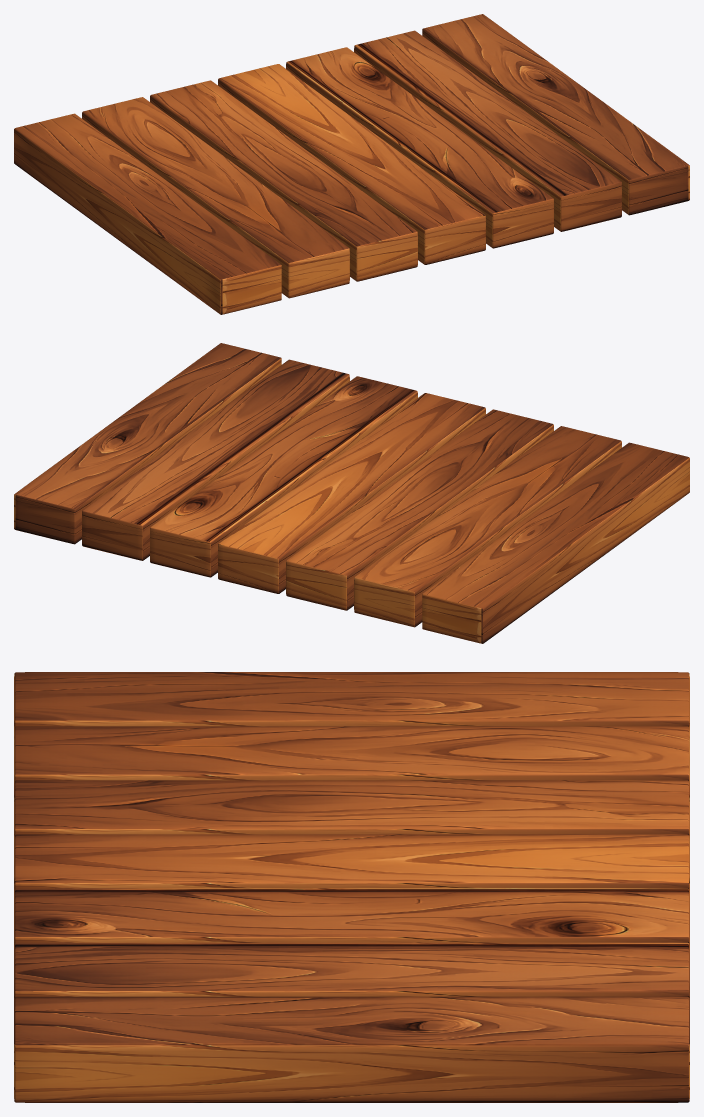
The model's file is raftBody.glb.
3 views of the same model, one above another, from view 1: azimuth 30°, elevation 25°; view 2: azimuth 150°, elevation 25°; view 3: azimuth 270°, elevation 25° (orthographic). The views are drawn at different scales.
Parts seen in each view (by area): view 1: Raft Body; view 2: Raft Body; view 3: Raft Body.
Part boxes in pixels (box(x1,y1,x2,y2)): Raft Body: box(14, 14, 689, 314); Raft Body: box(14, 343, 689, 643); Raft Body: box(14, 672, 689, 1102).
Size of the model in its own units: 5.67 by 0.4182 by 4.33.
Materials: 1 (1 with a texture image).
